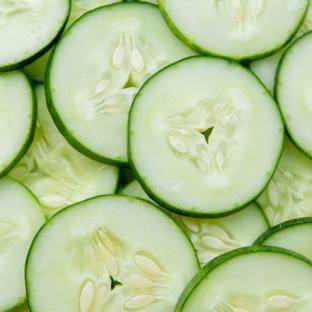Cucumber: (129, 56, 284, 217), (46, 2, 193, 165), (26, 195, 198, 311), (10, 85, 118, 216), (159, 0, 308, 62), (175, 247, 311, 311), (0, 177, 45, 311), (172, 204, 269, 265), (0, 0, 70, 71), (275, 32, 311, 157), (259, 138, 311, 224), (0, 71, 37, 177), (255, 218, 311, 260), (249, 49, 284, 94), (12, 303, 29, 311)
